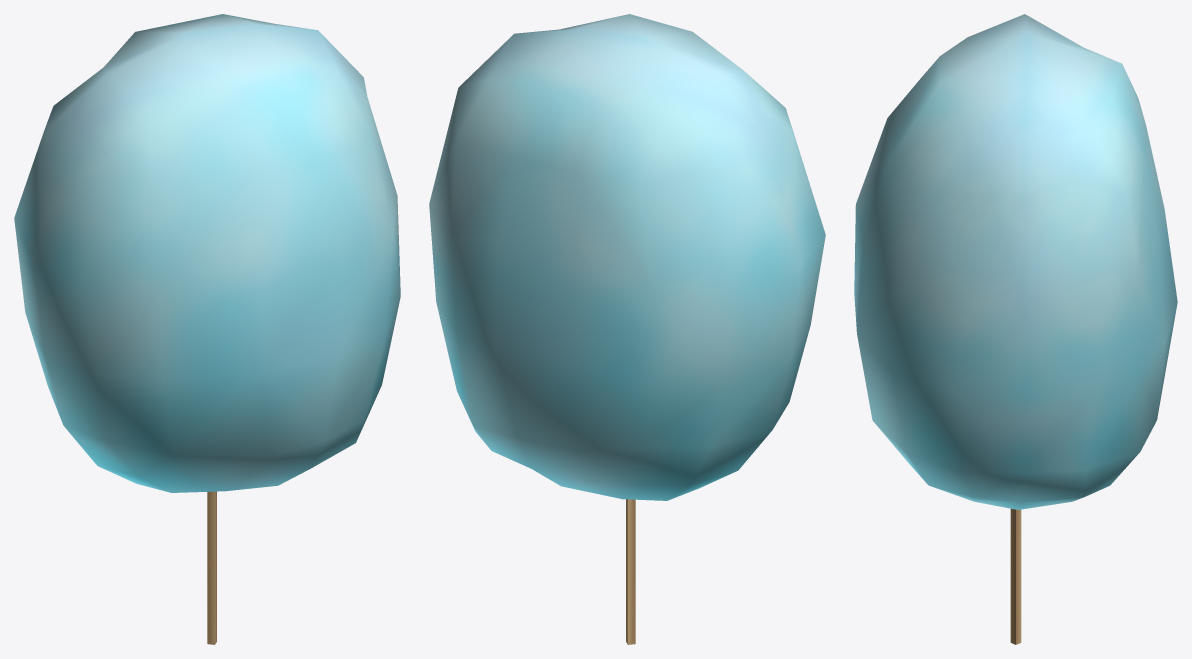
Rendered from jsf_CottonCandy_03L.fbx.
3 renders of one model, left to right at view 1: azimuth 30°, elevation 25°; view 2: azimuth 150°, elevation 25°; view 3: azimuth 270°, elevation 25°, orthographic. The views are drawn at different scales.
Visible parts, largest first — view 1: jsf_CottonCandy_03L; view 2: jsf_CottonCandy_03L; view 3: jsf_CottonCandy_03L.
Boxes of the visible parts, x1,y1,x2,y2 form: jsf_CottonCandy_03L: (14, 14, 400, 644); jsf_CottonCandy_03L: (429, 14, 825, 644); jsf_CottonCandy_03L: (854, 14, 1177, 644).
Bounding box in the file's own units: 25.91 × 43.4 × 21.21.
